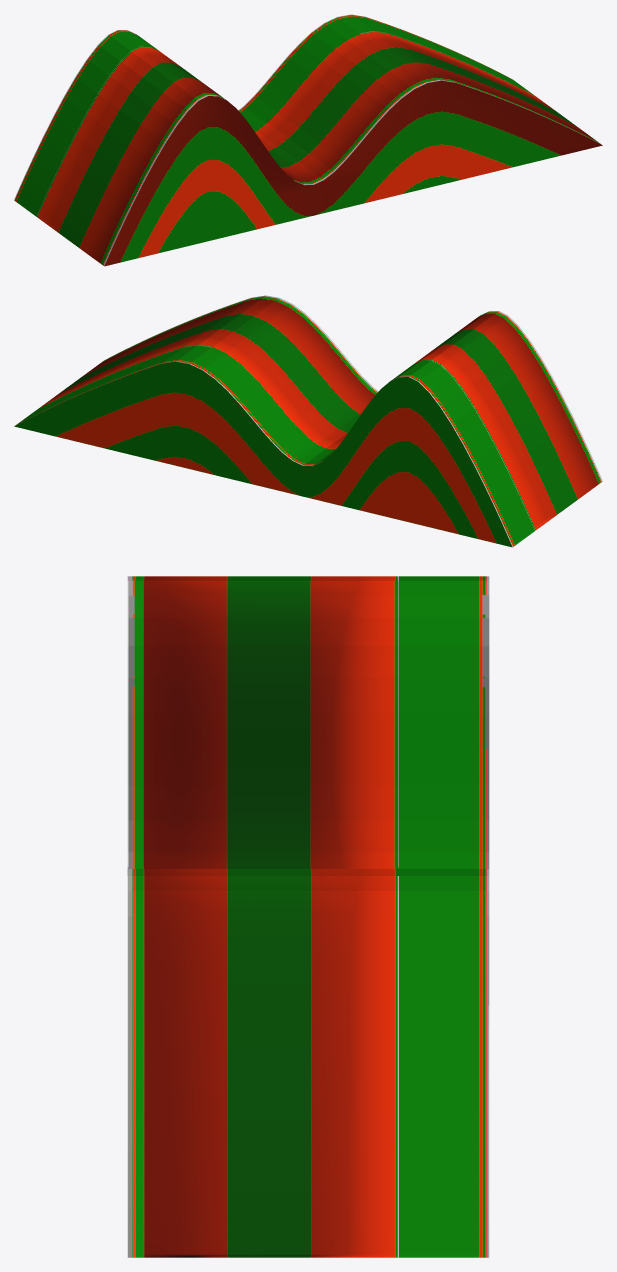
File: SEDUTA.fbx
The picture shows the model from 3 angles, top to bottom: view 1: azimuth 30°, elevation 25°; view 2: azimuth 150°, elevation 25°; view 3: azimuth 270°, elevation 25°; orthographic projection. The views are drawn at different scales.
Visible parts, largest first — view 1: Cube.003; view 2: Cube.003; view 3: Cube.003.
Part boxes in pixels (x1,y1,x2,y2): Cube.003: (14,14,602,266); Cube.003: (14,295,602,547); Cube.003: (127,576,489,1257).
Size of the model in its own units: 1.15 by 0.3213 by 0.3608.
